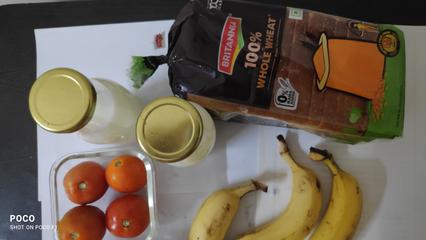banana: (261, 151, 369, 237), (189, 177, 237, 240)
bread: (161, 3, 424, 140)
milk: (140, 100, 240, 165), (31, 71, 130, 135)
tomato: (52, 153, 165, 234)
